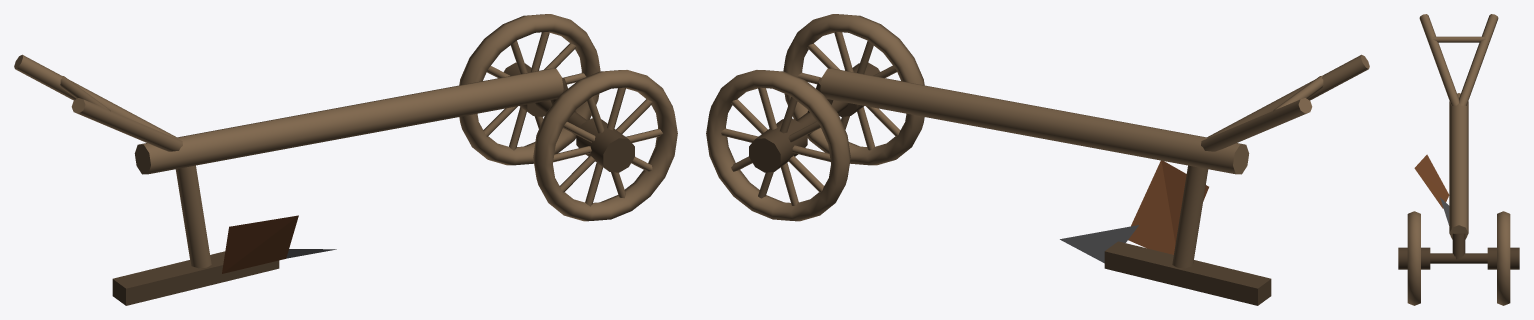
File: plug.glb
3 views of the same model, side by side, from view 1: azimuth 30°, elevation 25°; view 2: azimuth 150°, elevation 25°; view 3: azimuth 270°, elevation 25° (orthographic). The views are drawn at different scales.
Parts seen in each view (by area): view 1: rim (×2), beam, sole, handle (×2), mouldboard, stilt, hub, rung; view 2: rim (×2), beam, sole, mouldboard, handle (×2), stilt, hub, share, rung; view 3: beam, rim (×2), handle (×2), hub (×2), mouldboard, axle, rung, strut, share.
Part boxes in pixels (<box>): rim (×2): <box>459,14,677,221</box>; beam: <box>134,68,563,174</box>; sole: <box>112,251,279,305</box>; handle (×2): <box>14,54,182,151</box>; mouldboard: <box>222,215,298,273</box>; stilt: <box>175,165,211,268</box>; hub: <box>576,118,634,172</box>; rung: <box>60,75,110,111</box>; rim (×2): <box>706,14,924,221</box>; beam: <box>820,68,1249,174</box>; sole: <box>1104,241,1271,305</box>; mouldboard: <box>1128,160,1208,254</box>; handle (×2): <box>1201,54,1369,151</box>; stilt: <box>1172,165,1208,268</box>; hub: <box>749,118,807,172</box>; share: <box>1060,225,1138,263</box>; rung: <box>1273,75,1323,111</box>; beam: <box>1449,93,1468,239</box>; rim (×2): <box>1407,211,1510,305</box>; handle (×2): <box>1419,14,1498,105</box>; hub (×2): <box>1398,247,1519,269</box>; mouldboard: <box>1414,154,1449,208</box>; axle: <box>1430,253,1487,263</box>; rung: <box>1432,36,1485,42</box>; strut: <box>1452,233,1465,259</box>; share: <box>1440,197,1449,225</box>.
Size of the model in its own units: 2.52 by 0.9734 by 0.76.
